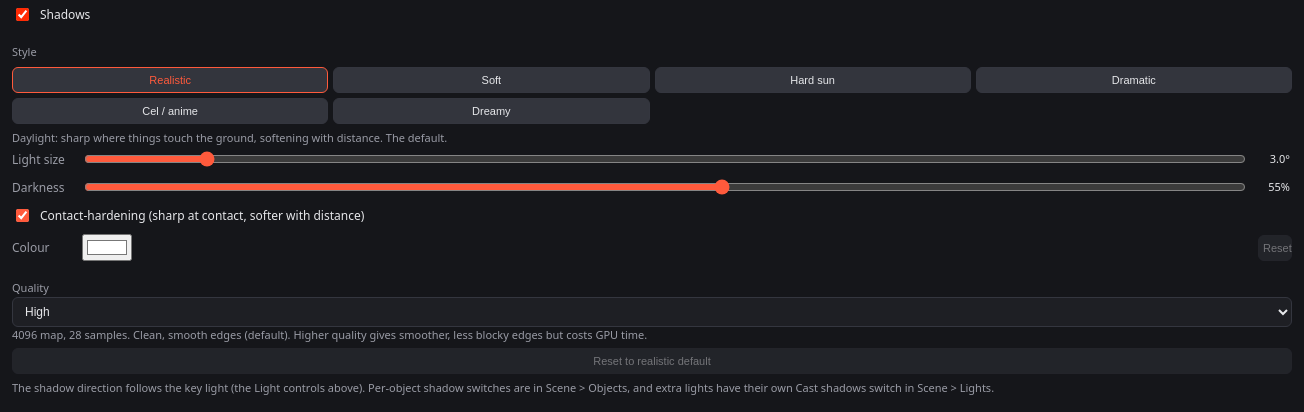
Test: Shadows panel › moving a control by hand un-highlights the style ("Custom")
Click the checkbox labelled "Contact-hardening (sharp at contact, softer with distance)" at (22, 216), box [16, 209, 29, 222]
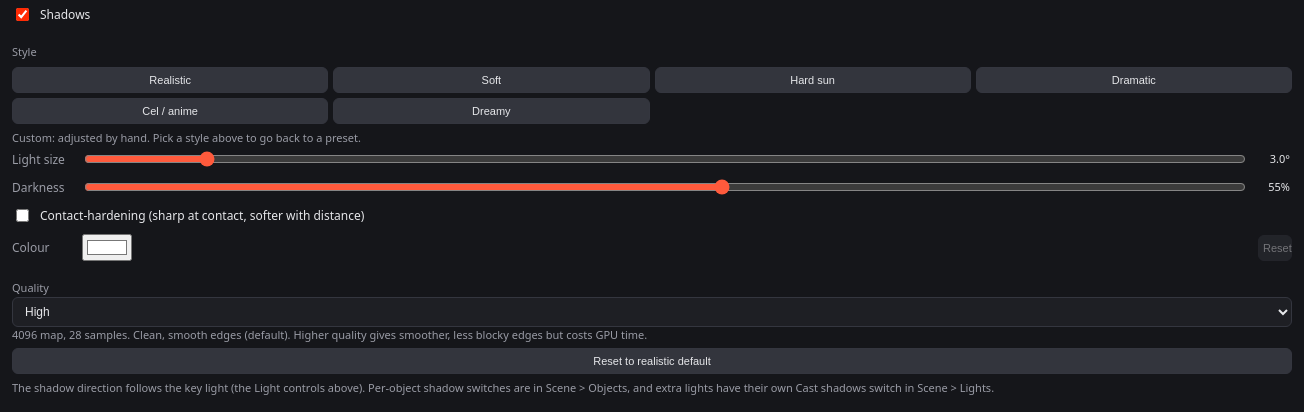
Result: the text "Custom" is shown at [12, 130, 361, 145]
